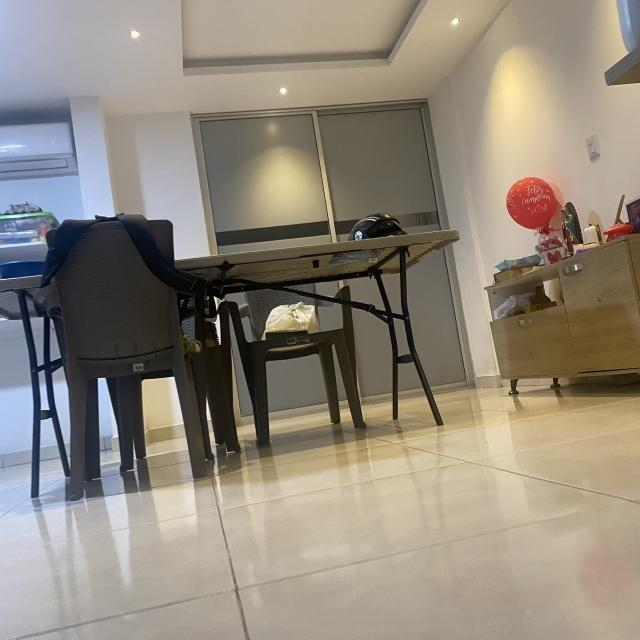obstacle: (28, 212, 240, 510), (480, 222, 638, 400), (225, 268, 362, 456)
